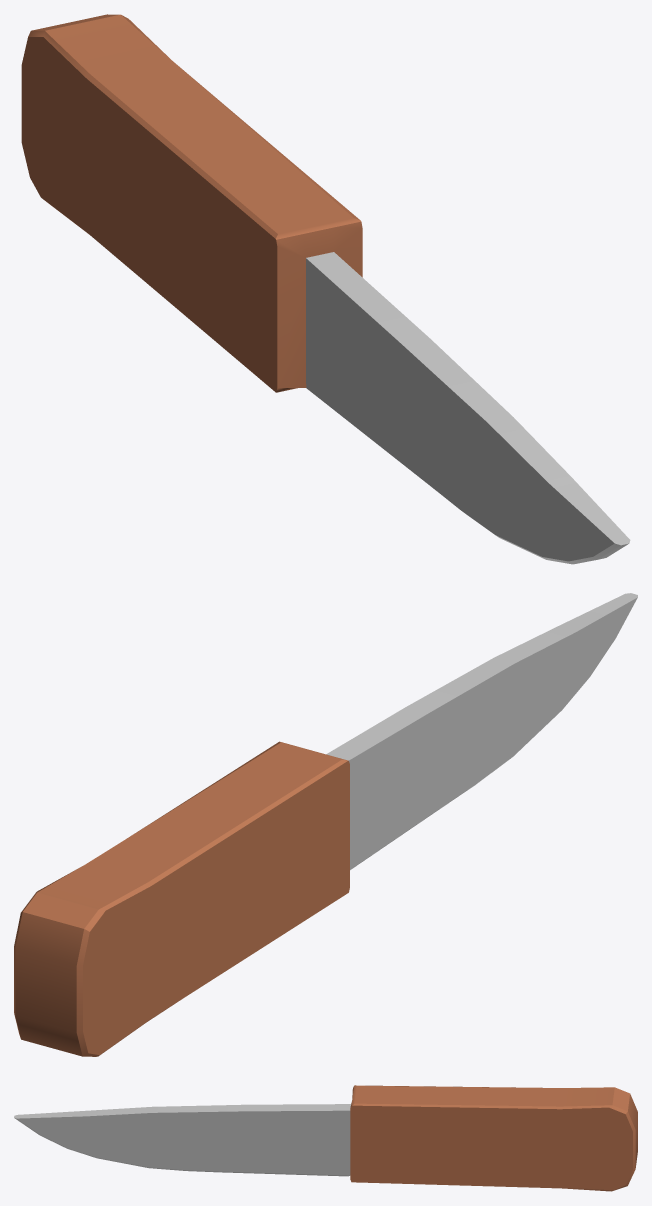
The model's file is DaggerPeasant.fbx.
3 views of the same model, one above another, from view 1: azimuth 30°, elevation 25°; view 2: azimuth 150°, elevation 25°; view 3: azimuth 270°, elevation 25° (orthographic). The views are drawn at different scales.
Visible parts, largest first — view 1: Handle, Blade; view 2: Handle, Blade; view 3: Handle, Blade.
Boxes of the visible parts, box(x1,y1,x2,y2) form: Handle: box(21, 14, 362, 392); Blade: box(306, 252, 630, 564); Handle: box(14, 741, 349, 1056); Blade: box(326, 593, 637, 869); Handle: box(350, 1085, 637, 1191); Blade: box(14, 1104, 351, 1176).
Bounding box in the file's own units: 9.35 × 13.85 × 91.3.
